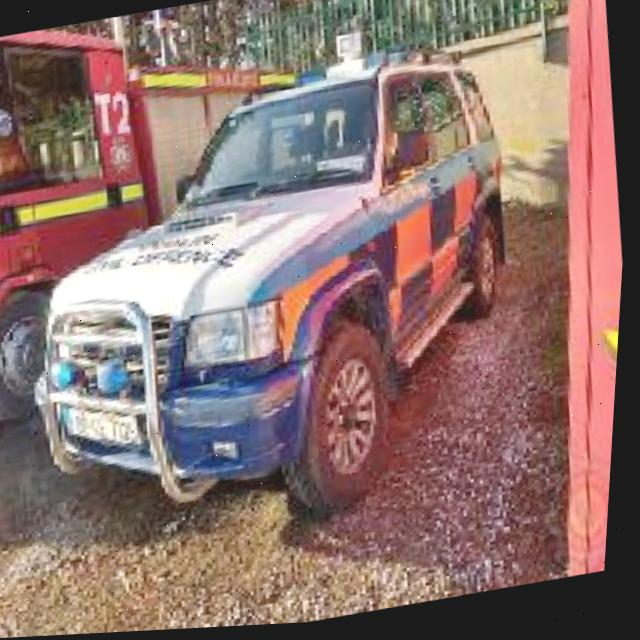emergency: (0, 35, 553, 569), (0, 0, 389, 428)
